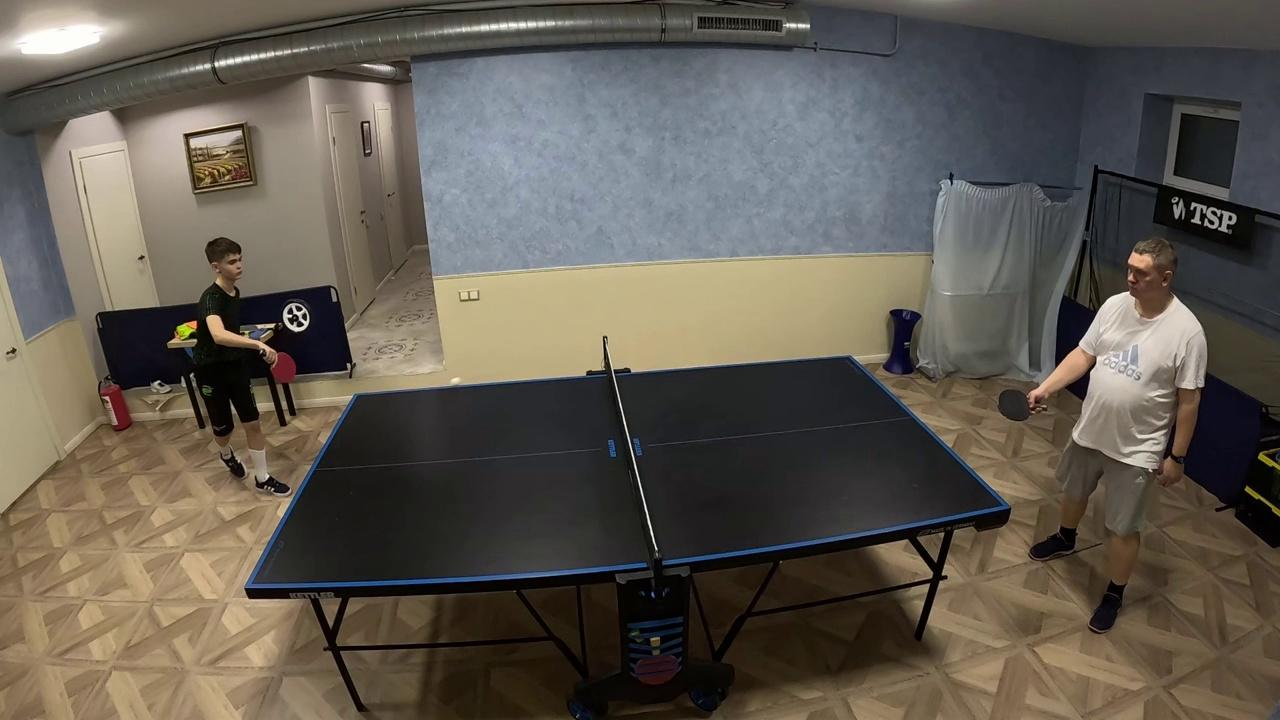Ball: (442, 377, 461, 387)
Net: (602, 336, 664, 588)
Player1: (193, 237, 289, 495)
Player2: (1028, 238, 1206, 632)
Table: (244, 371, 648, 593), (616, 357, 1011, 571)
